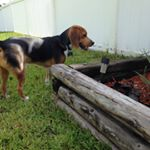puppy: (1, 21, 99, 102)
